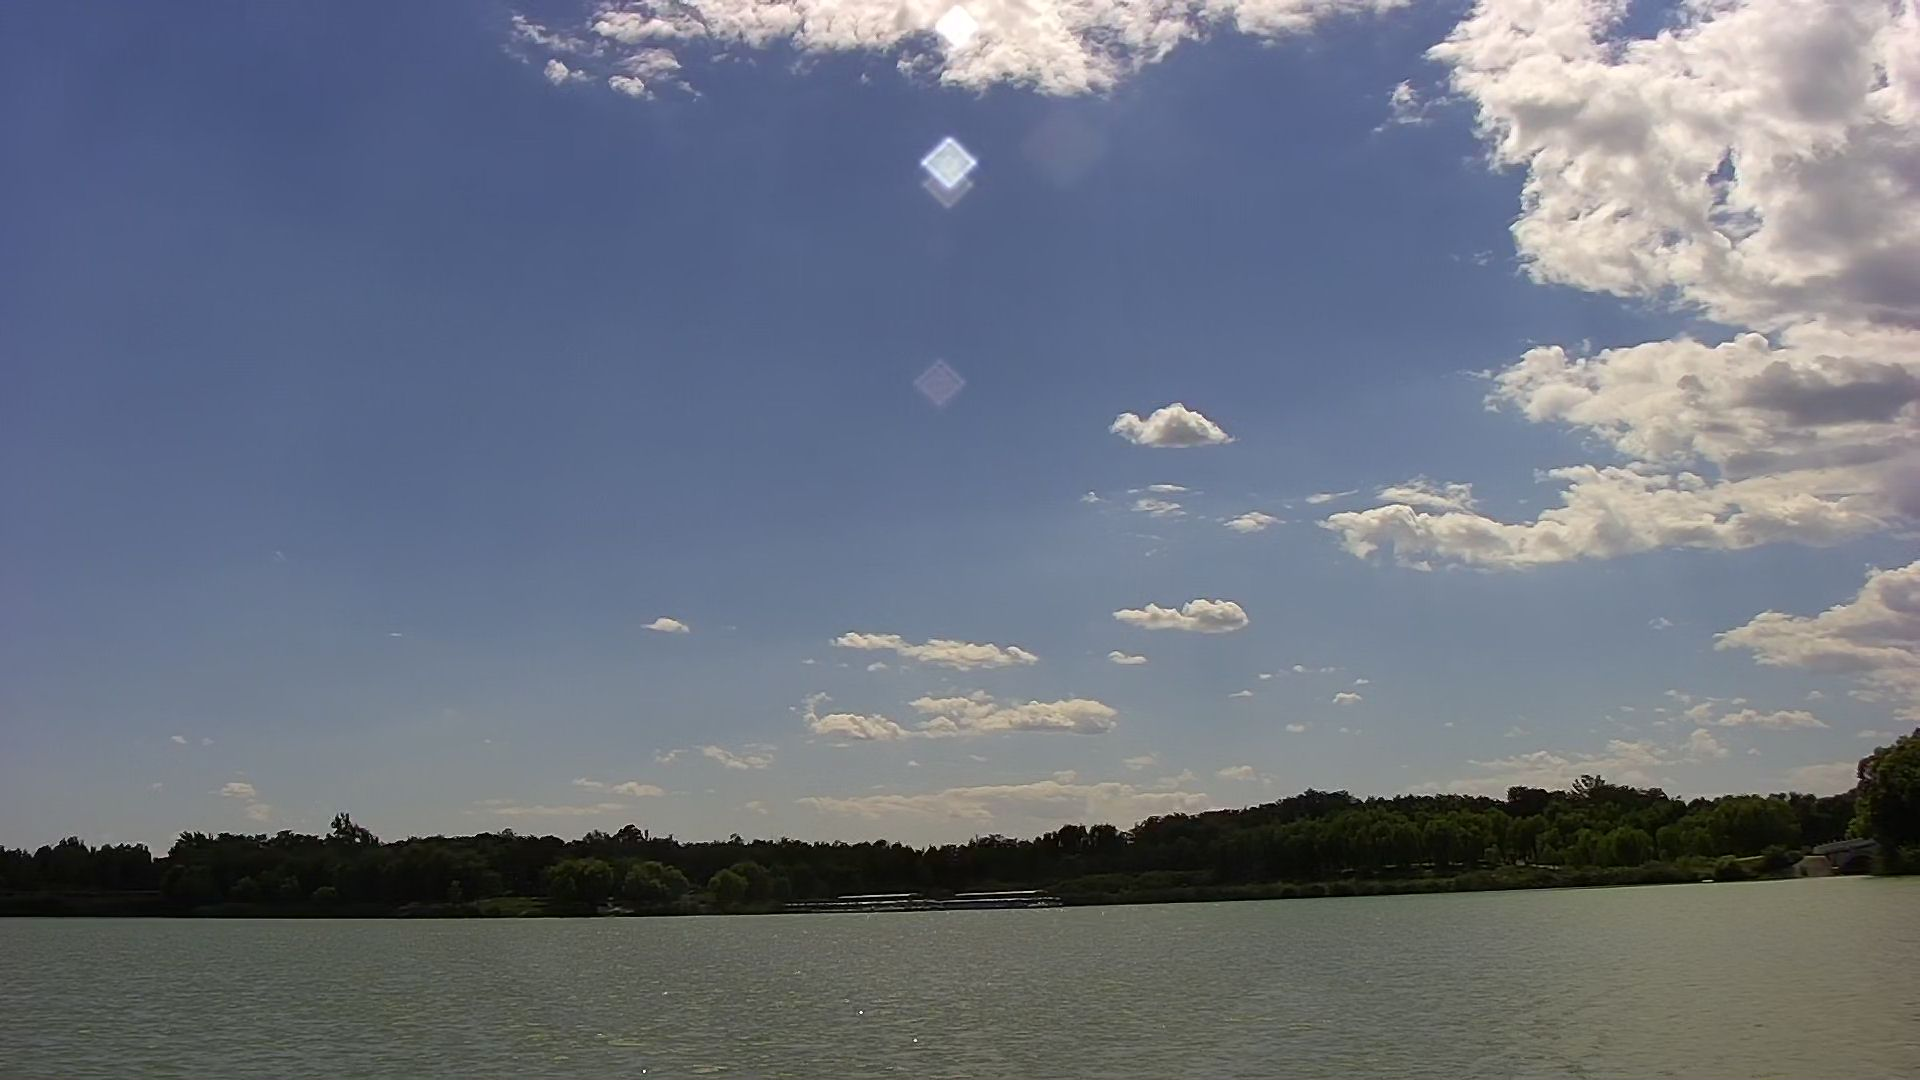harbor: (823, 893, 1039, 915)
